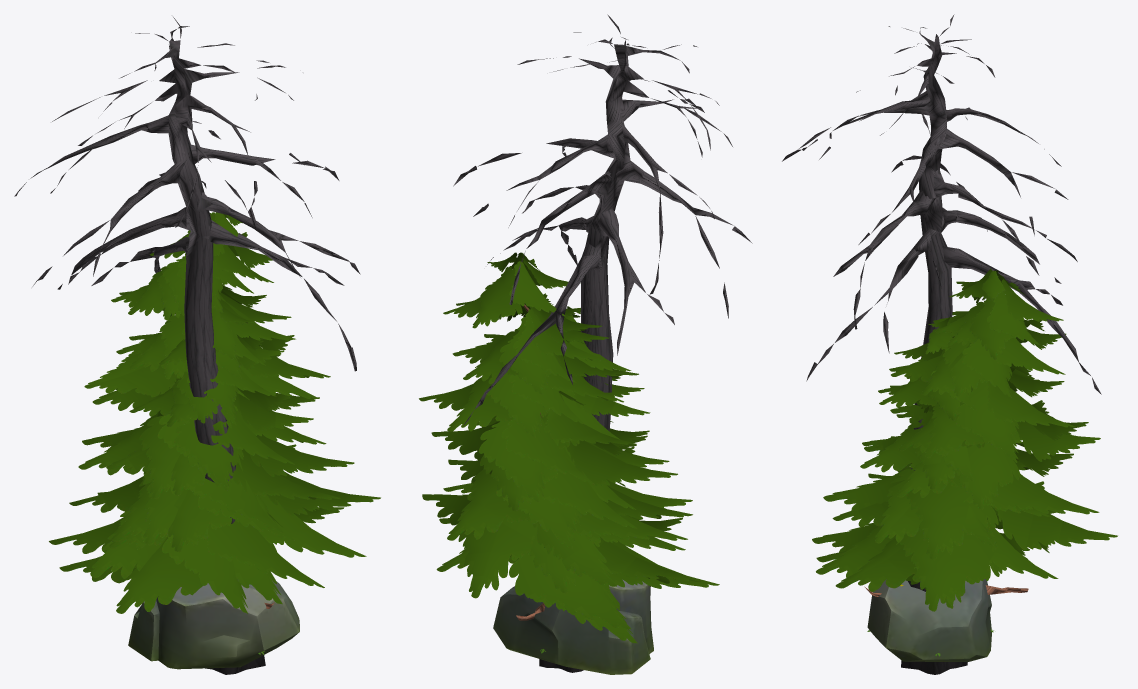
File: forest.glb
The picture shows the model from 3 angles, left to right: view 1: azimuth 30°, elevation 25°; view 2: azimuth 150°, elevation 25°; view 3: azimuth 270°, elevation 25°; orthographic projection. The views are drawn at different scales.
Visible parts, largest first — view 1: Pine_5, Pine_2, DeadTree_3, Rock_Medium_2; view 2: Pine_5, DeadTree_3, Pine_2, Rock_Medium_2; view 3: Pine_5, DeadTree_3, Pine_2, Rock_Medium_2.
Part boxes in pixels (bbox=[...]): Pine_5: bbox=[49, 212, 380, 604]; Pine_2: bbox=[59, 294, 344, 613]; DeadTree_3: bbox=[14, 17, 360, 674]; Rock_Medium_2: bbox=[128, 580, 299, 669]; Pine_5: bbox=[419, 252, 701, 629]; DeadTree_3: bbox=[453, 14, 752, 672]; Pine_2: bbox=[436, 306, 719, 643]; Rock_Medium_2: bbox=[493, 579, 653, 674]; Pine_5: bbox=[816, 268, 1117, 611]; DeadTree_3: bbox=[782, 14, 1101, 674]; Pine_2: bbox=[812, 316, 1058, 608]; Rock_Medium_2: bbox=[867, 579, 991, 661].
Bounding box in the file's own units: 7.26 × 13.28 × 6.81.
Materials: 9 (9 with a texture image).
